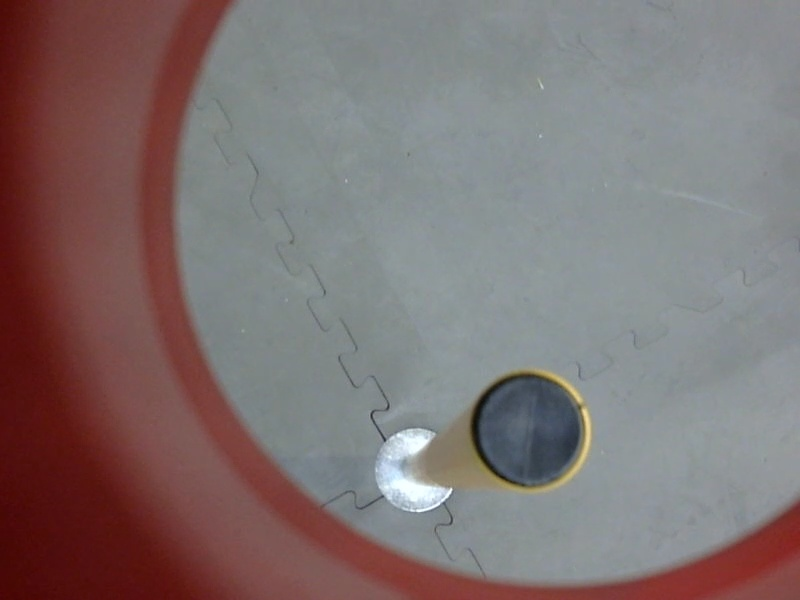tip: (466, 363, 598, 502)
